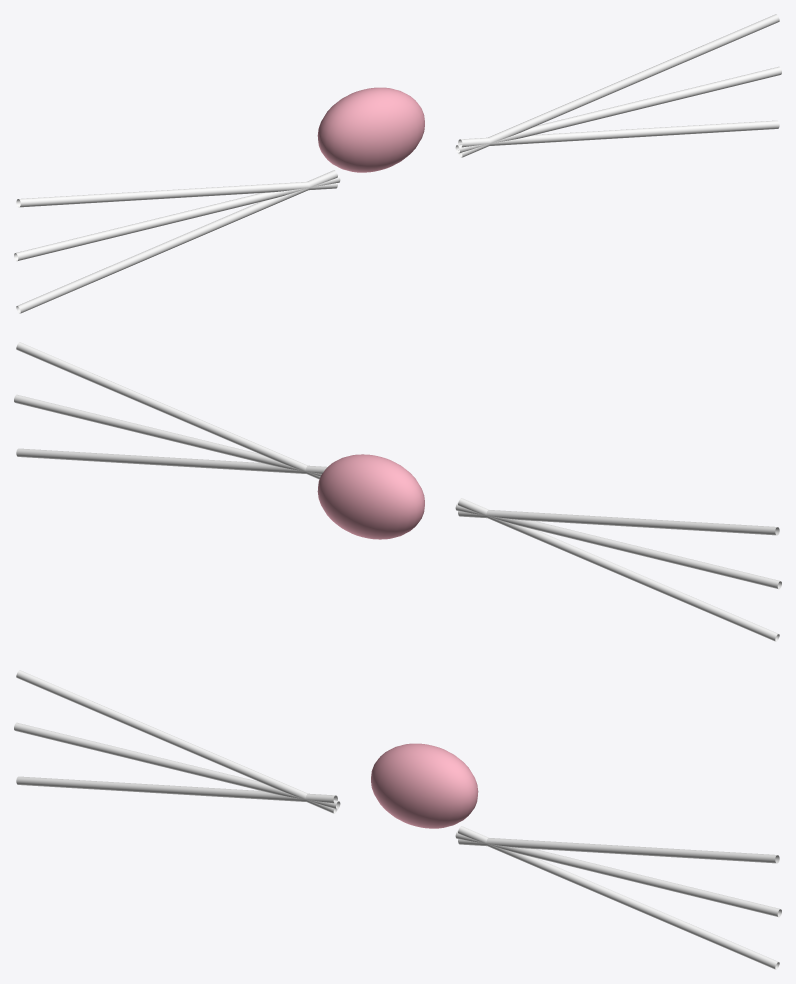
File: cat_nose.glb
3 renders of one model, top to bottom at view 1: azimuth 30°, elevation 25°; view 2: azimuth 150°, elevation 25°; view 3: azimuth 330°, elevation 25°, orthographic.
Bounding box in the file's own units: 0.166 × 0.0237 × 0.0178.
